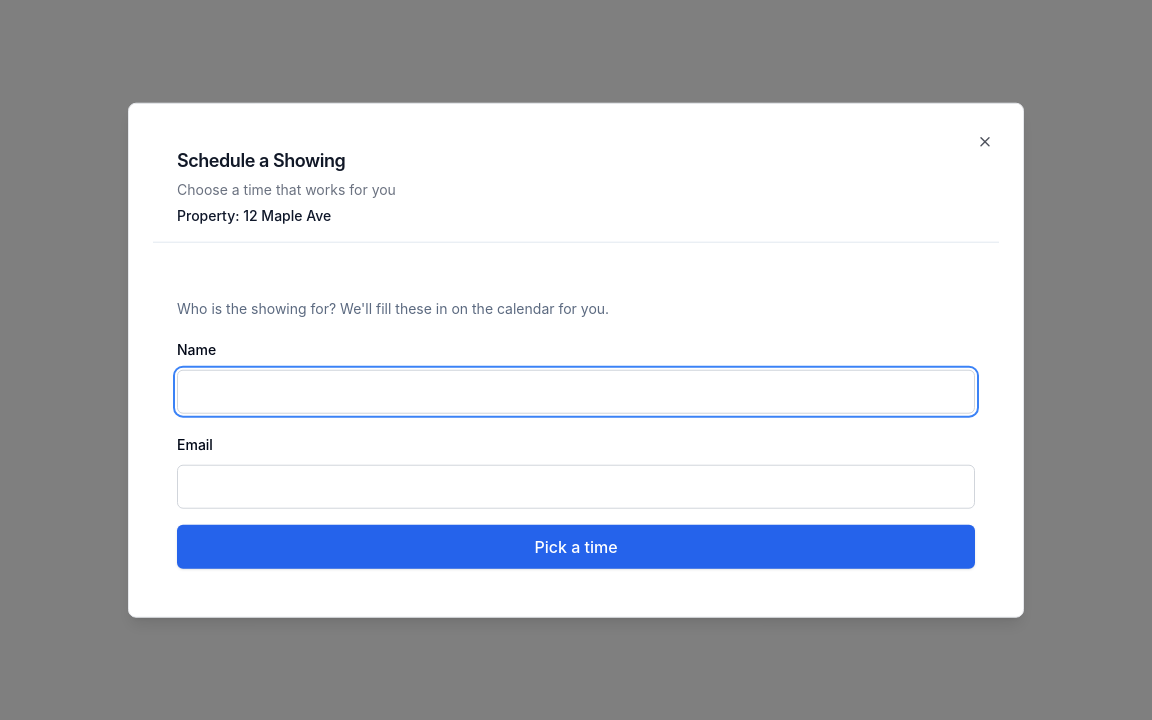
Test case: CalendlyModal › asks who the showing is for, prefills Calendly, and records the booking as a lead
In the field labelled "Name": coordinates (576, 392) [177,370,975,414], type "Dana Rivers"
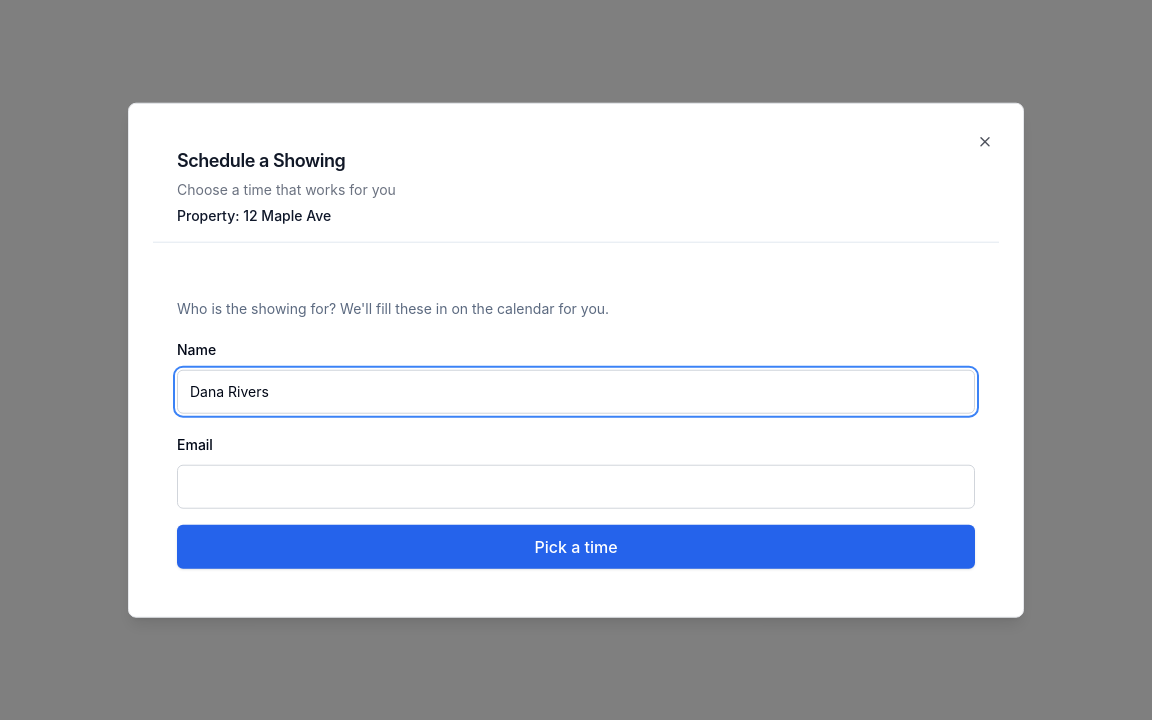
In the field labelled "Email": coordinates (576, 486) [177,464,975,508], type "dana@example.com"
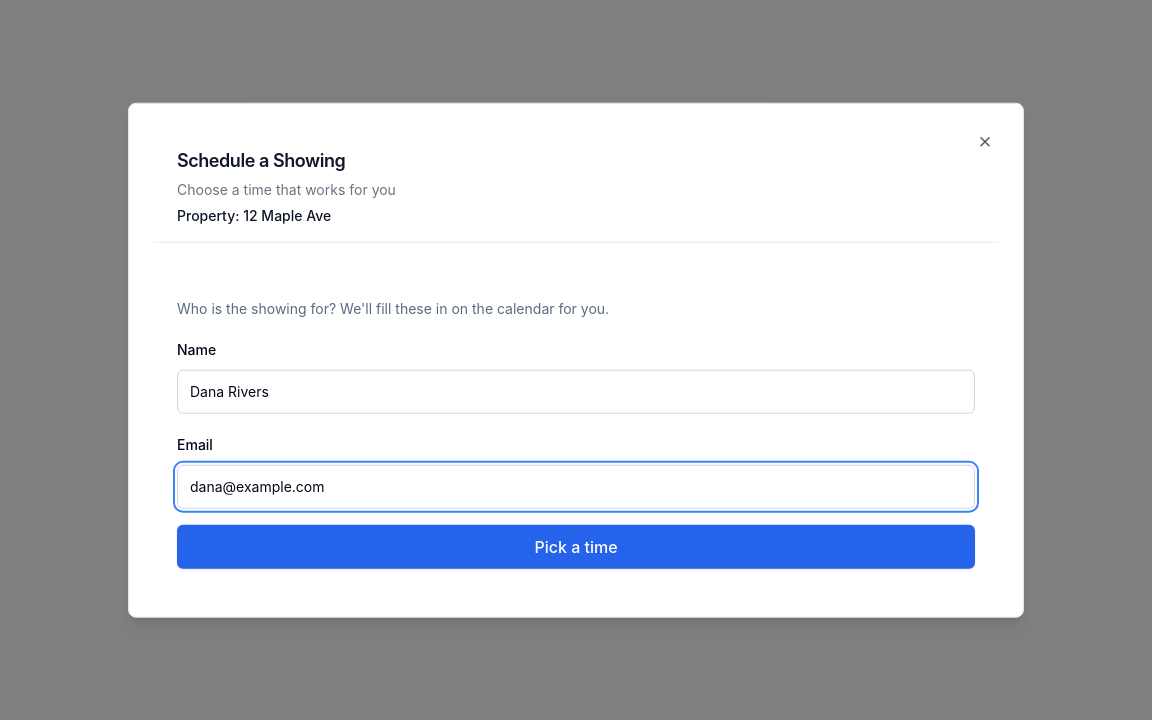
Click the button "Pick a time": coordinates (576, 546) [177,524,975,568]
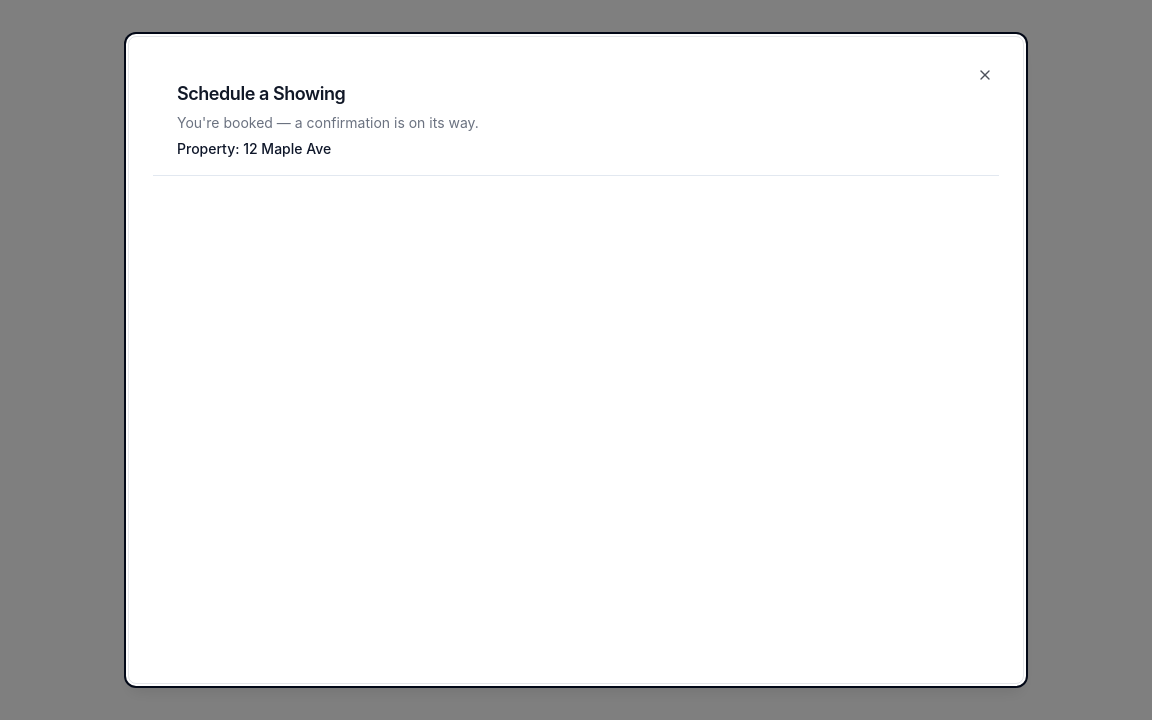
Expected: the text "You're booked — a confirmation is on its way." is shown, [177,114,479,131]
